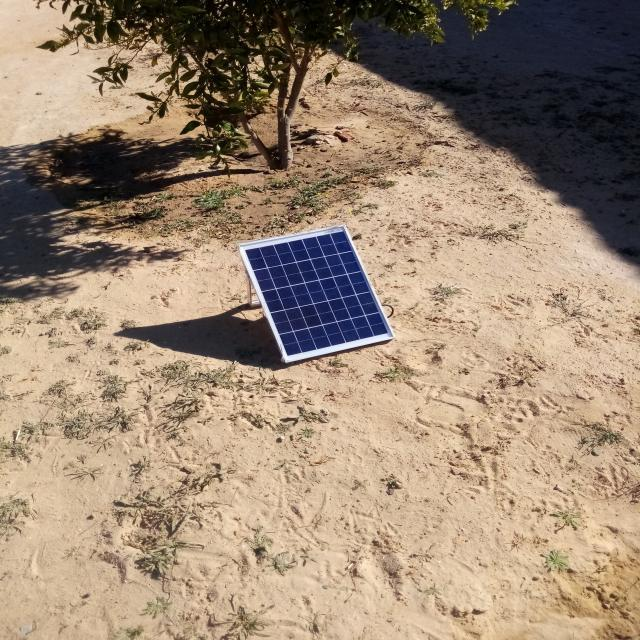no faulty: (237, 225, 395, 362)
